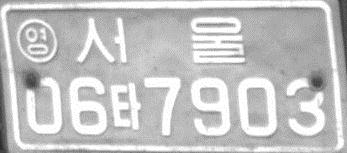0: (237, 76, 277, 137), (25, 75, 63, 135)
3: (284, 76, 326, 137)
6: (68, 75, 108, 135)
7: (143, 76, 182, 137)
9: (189, 76, 231, 137)
서울_D: (75, 14, 245, 65)
영: (15, 17, 58, 64)
타: (110, 81, 142, 130)
